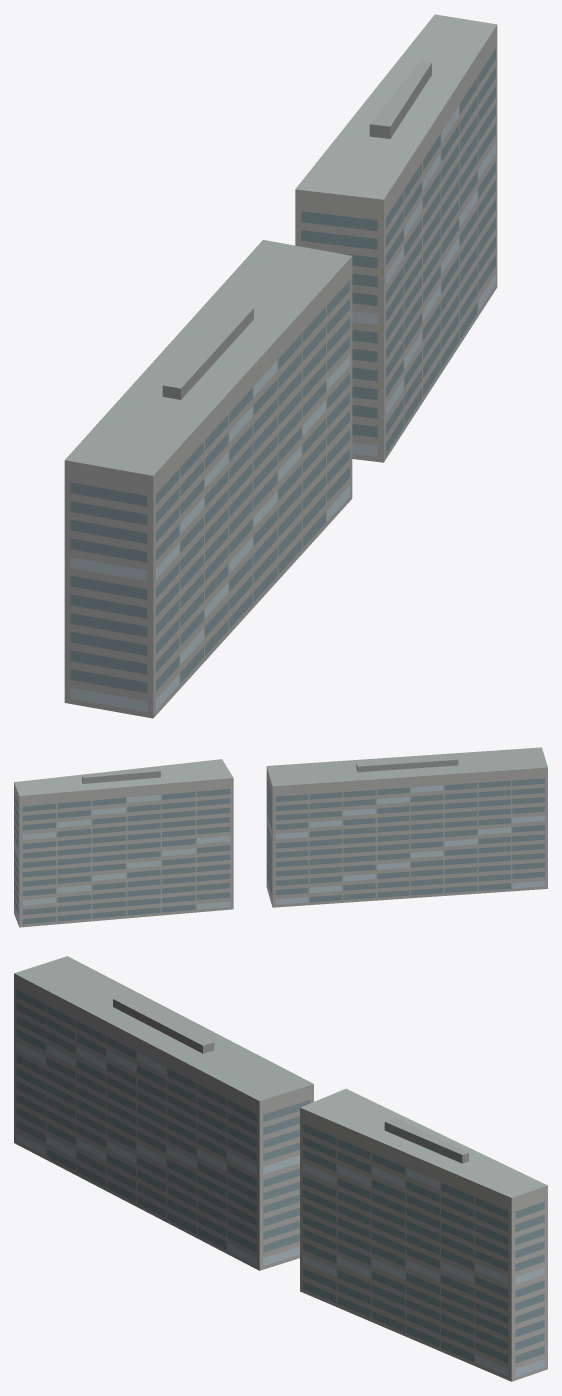
File: apt-a12205001.glb
The picture shows the model from 3 angles, top to bottom: view 1: azimuth 30°, elevation 25°; view 2: azimuth 150°, elevation 25°; view 3: azimuth 270°, elevation 25°; orthographic projection. The views are drawn at different scales.
Visible parts, largest first — view 1: apt-a12205001; view 2: apt-a12205001; view 3: apt-a12205001.
Part boxes in pixels (left/top/right/bottom): apt-a12205001: left=64, top=14, right=497, bottom=718; apt-a12205001: left=14, top=747, right=547, bottom=927; apt-a12205001: left=14, top=956, right=547, bottom=1381.
Size of the model in its own units: 111 by 39 by 98.04.
